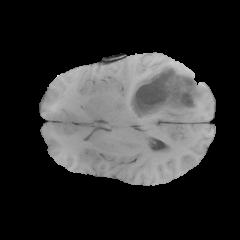glioma: (130, 62, 202, 116)
